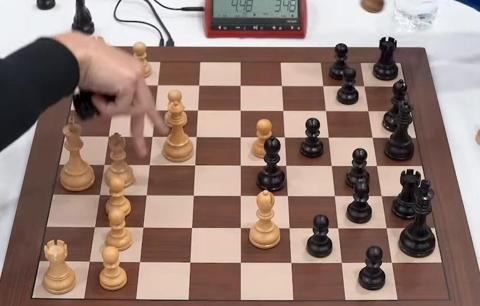xcorner: (93, 188, 105, 200), (276, 80, 287, 92), (234, 80, 246, 91), (192, 104, 203, 116), (235, 189, 246, 201), (381, 222, 392, 234), (137, 221, 149, 232), (286, 256, 297, 268), (83, 255, 94, 267), (358, 81, 369, 92), (317, 81, 328, 92), (193, 80, 204, 91), (152, 79, 163, 90), (110, 79, 121, 90), (362, 106, 373, 117), (320, 106, 331, 117), (277, 105, 288, 116), (235, 105, 246, 116), (149, 104, 160, 115), (106, 104, 117, 115), (366, 132, 377, 143), (323, 132, 334, 143), (279, 132, 290, 143), (235, 131, 246, 142), (191, 131, 202, 142), (147, 131, 158, 142), (102, 130, 113, 141), (371, 160, 382, 171), (326, 160, 337, 171), (280, 160, 291, 171), (235, 159, 246, 170), (189, 159, 200, 170), (144, 159, 155, 170), (98, 158, 109, 169), (376, 190, 387, 201), (329, 190, 340, 201), (282, 190, 293, 201), (188, 189, 199, 200), (141, 189, 152, 200), (332, 222, 343, 233), (284, 222, 295, 233), (235, 222, 246, 233), (186, 221, 197, 232), (89, 221, 100, 232), (386, 257, 397, 268), (336, 257, 347, 268), (235, 256, 246, 267), (185, 256, 196, 267), (134, 256, 145, 267)
